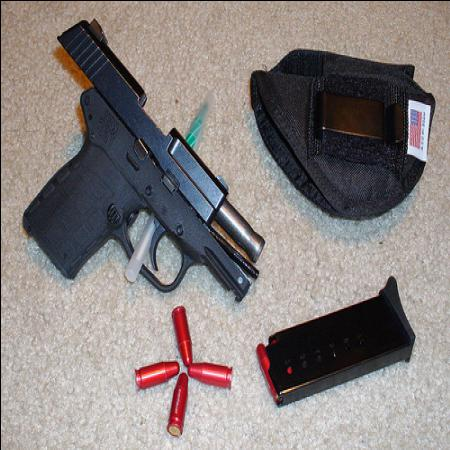Pistol: (21, 15, 264, 301)
